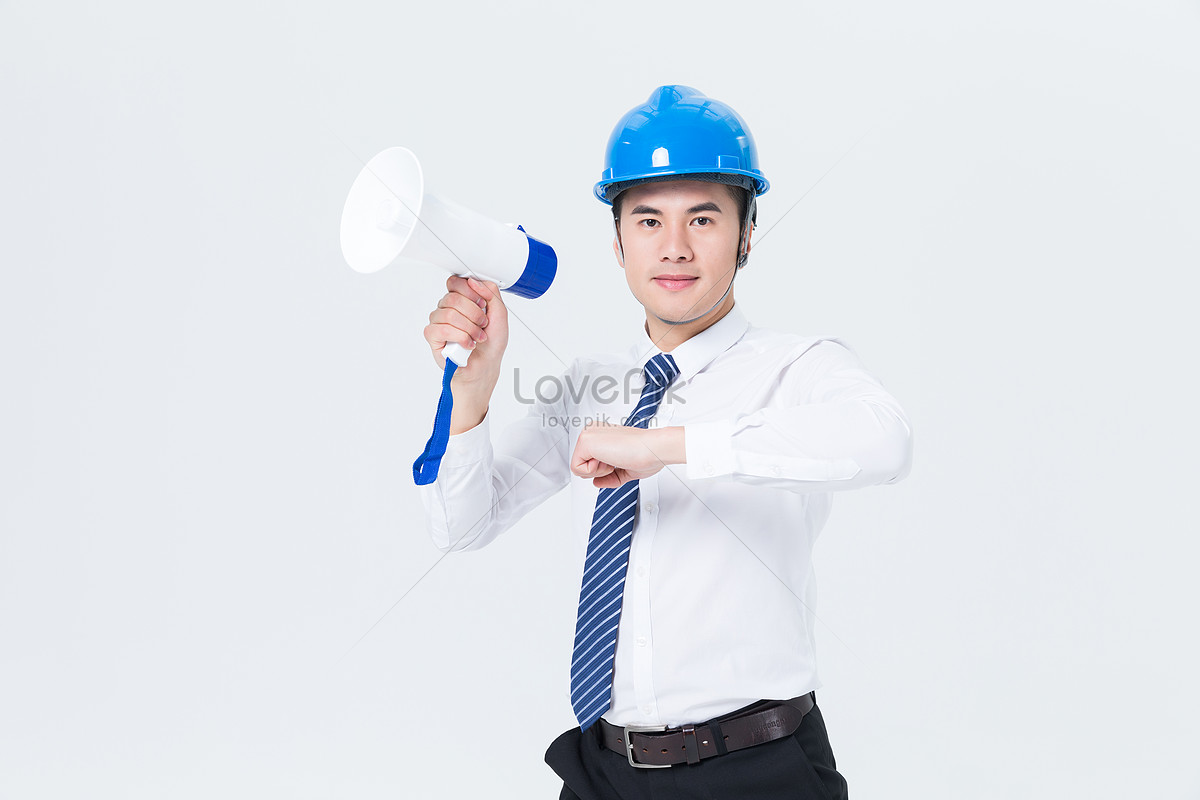helmet: (592, 91, 776, 188)
